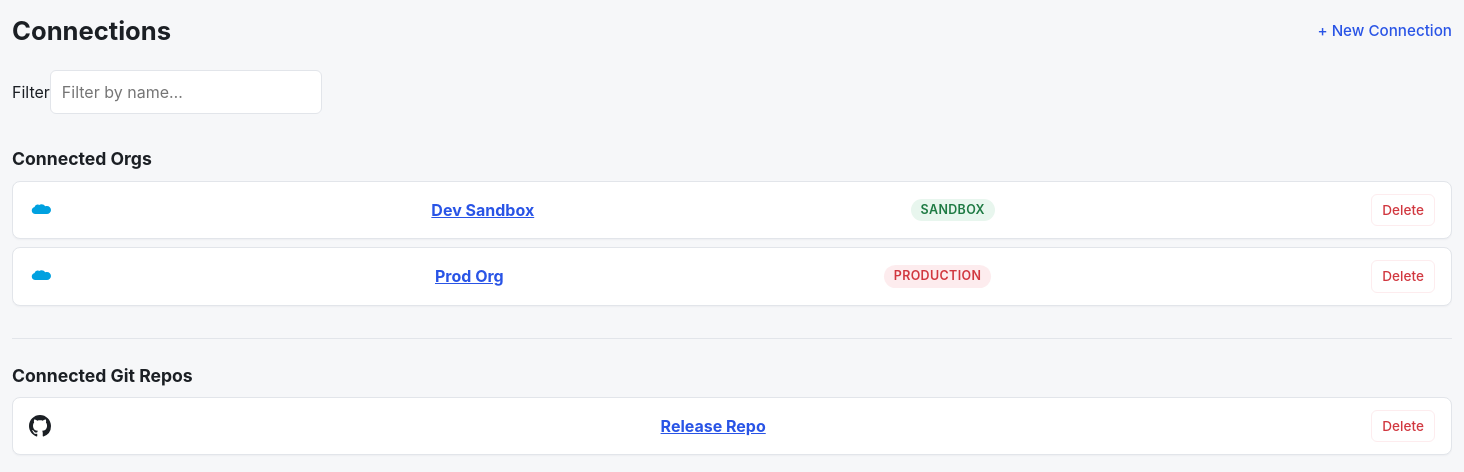
Scenario: Connections page › filters both the org and git lists by name, case-insensitively
Expected: the text "Dev Sandbox" is shown, [431,200,534,220]
Type "release" into the field named "filter connections by name" at (186, 92), box [50,70,322,114]
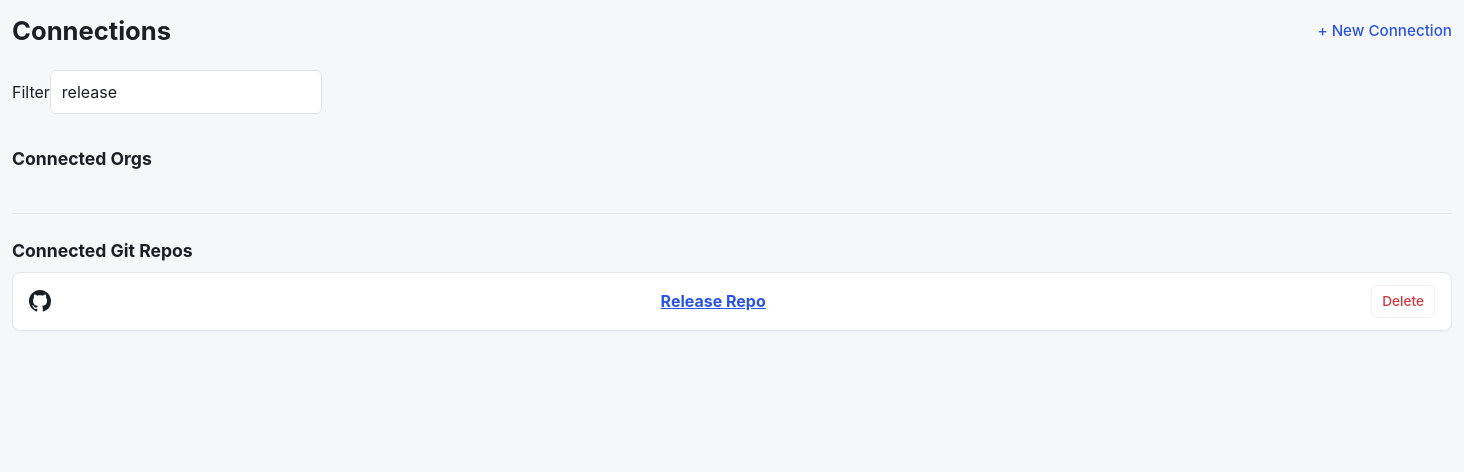
Expected: the text "Release Repo" is shown, [661,291,766,311]
Expected: the link "Dev Sandbox" is gone
Expected: the link "Prod Org" is gone
